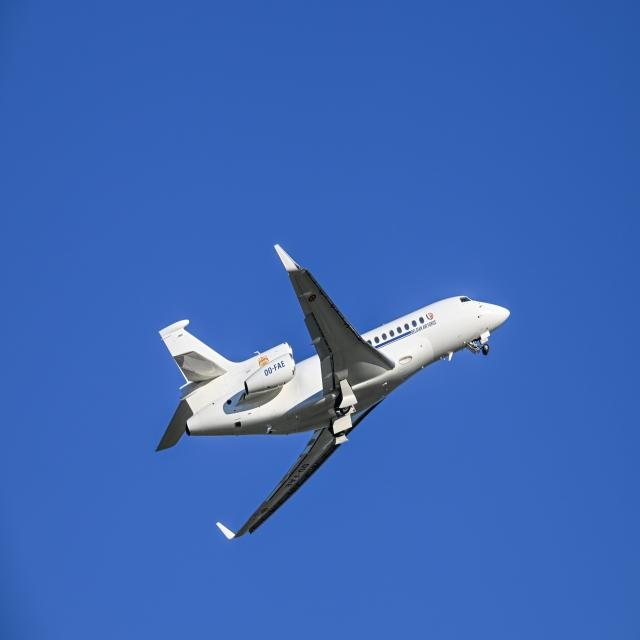aircraft: (138, 210, 530, 596)
